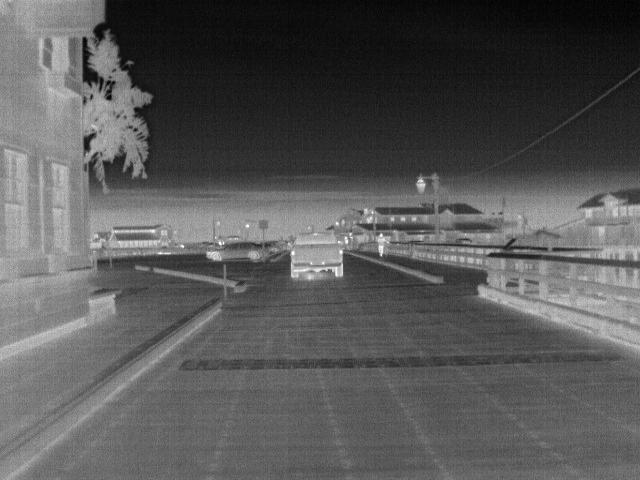car: (289, 229, 347, 279), (204, 240, 263, 262)
person: (374, 233, 386, 258)
